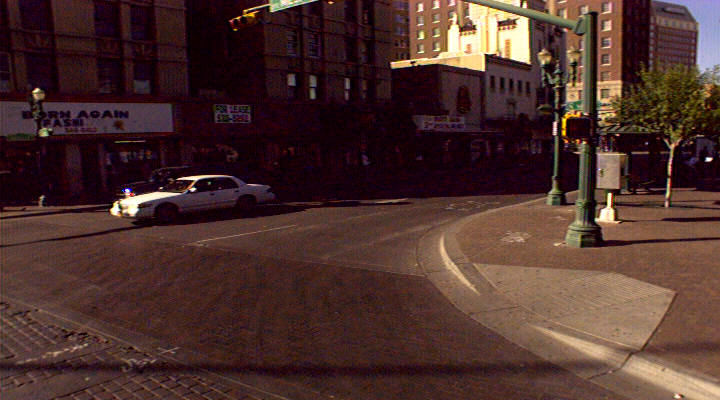Ramp: (428, 261, 680, 358)
